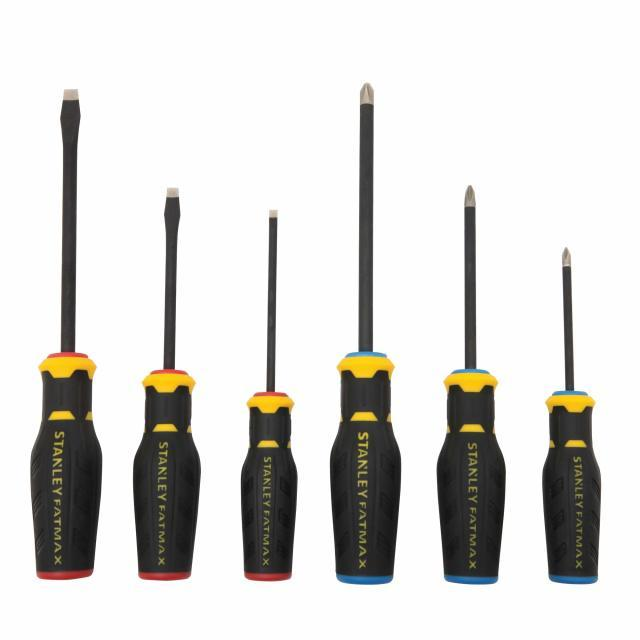screwdriver: (316, 75, 404, 592), (22, 61, 104, 592), (120, 168, 210, 594), (420, 176, 505, 591), (233, 200, 306, 600), (538, 237, 612, 596)
